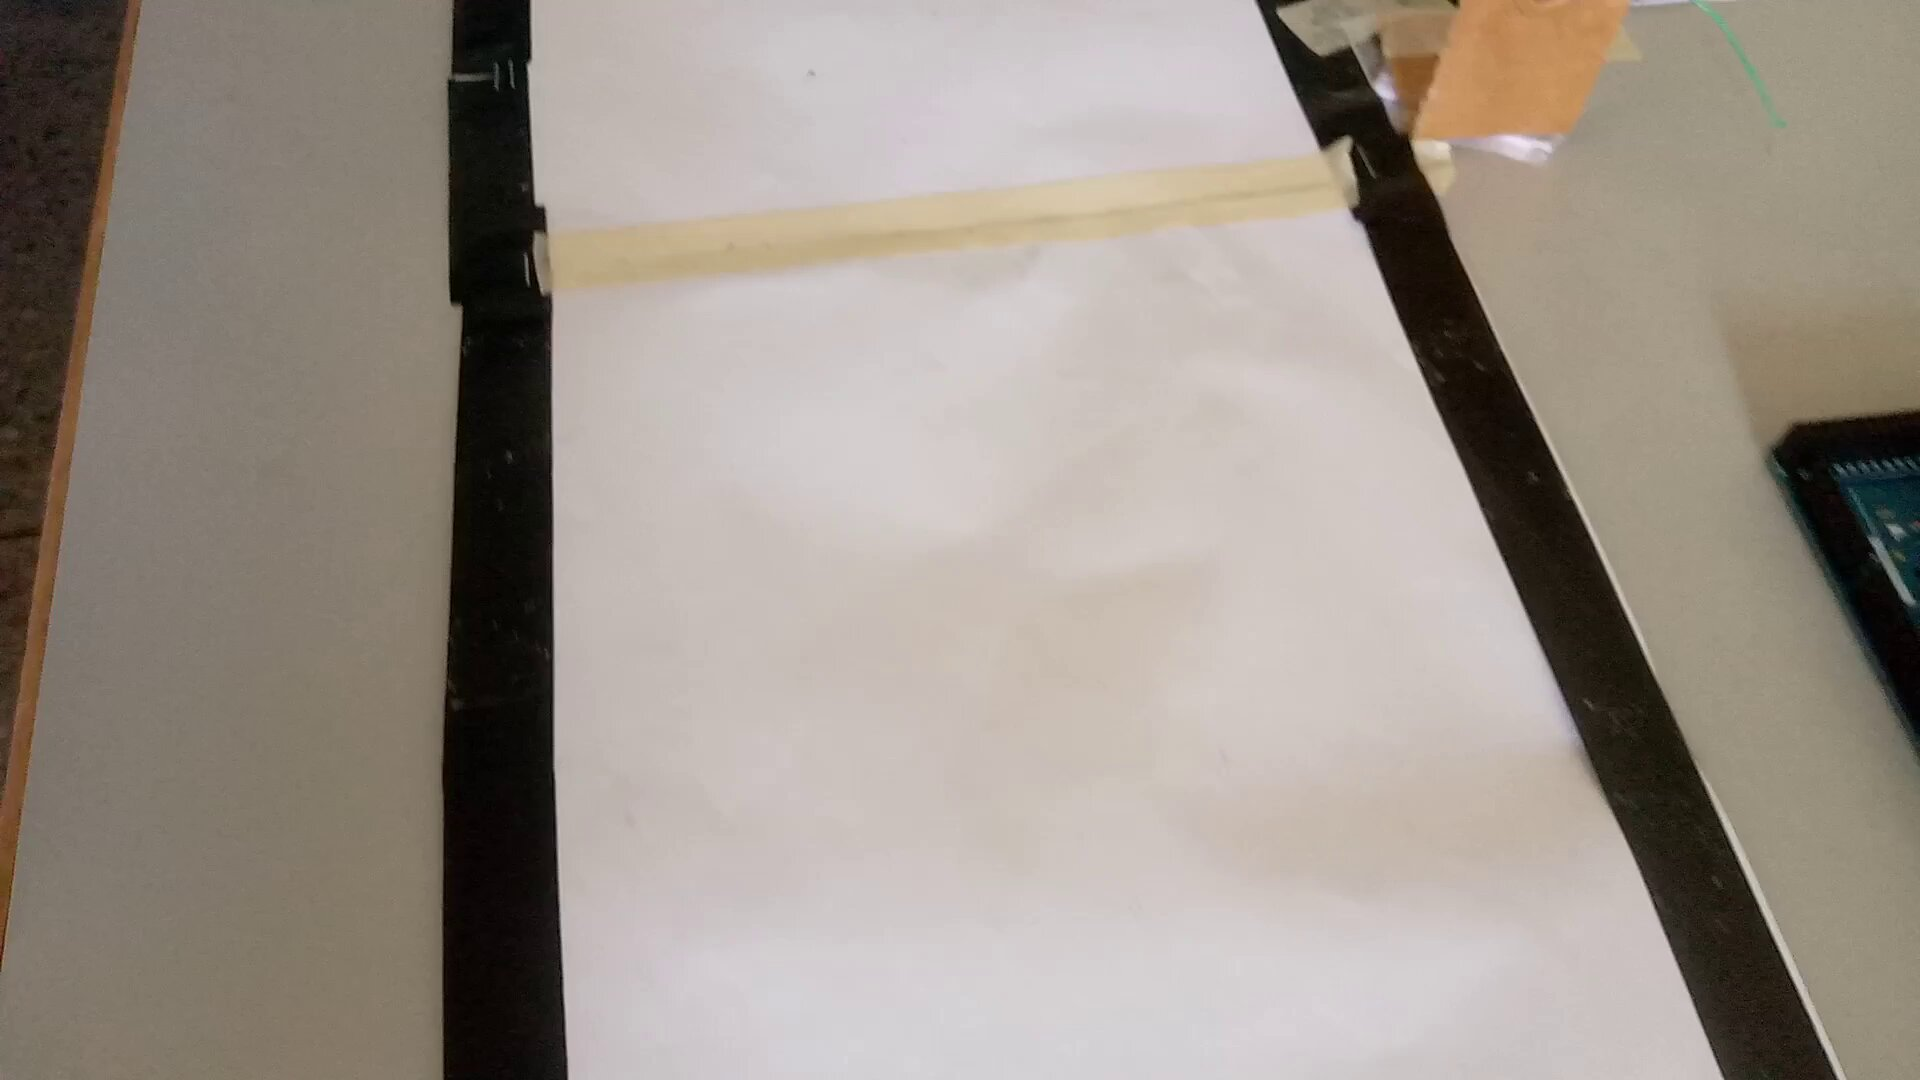forward: (426, 103, 1432, 433)
